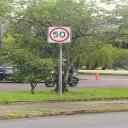speed_limit_50: (49, 27, 72, 43)
